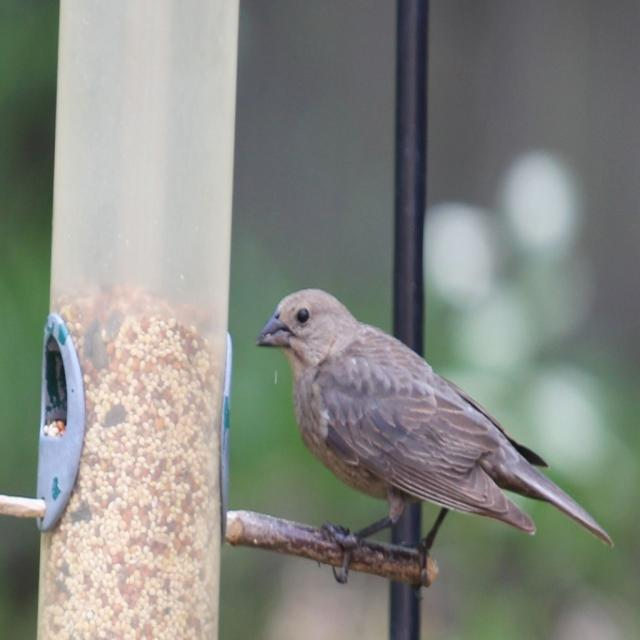bird: (253, 286, 622, 593)
